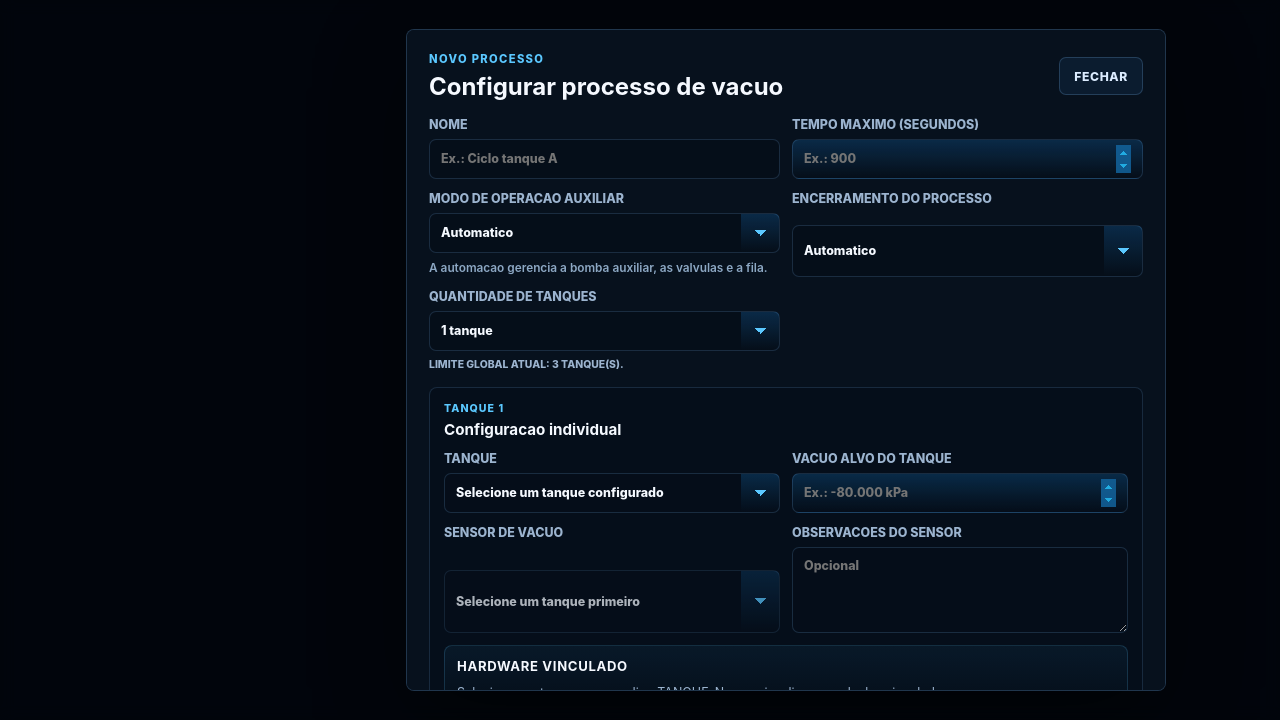
Test: NewProcessModal › oferece os três modos, limite dinâmico e prioridade apenas no automático/assistido
Select "2 tanques" in the dropdown labelled "Quantidade de tanques Limite global atual: 3 tanque(s).". click: (604,331)
box: [429, 311, 780, 351]
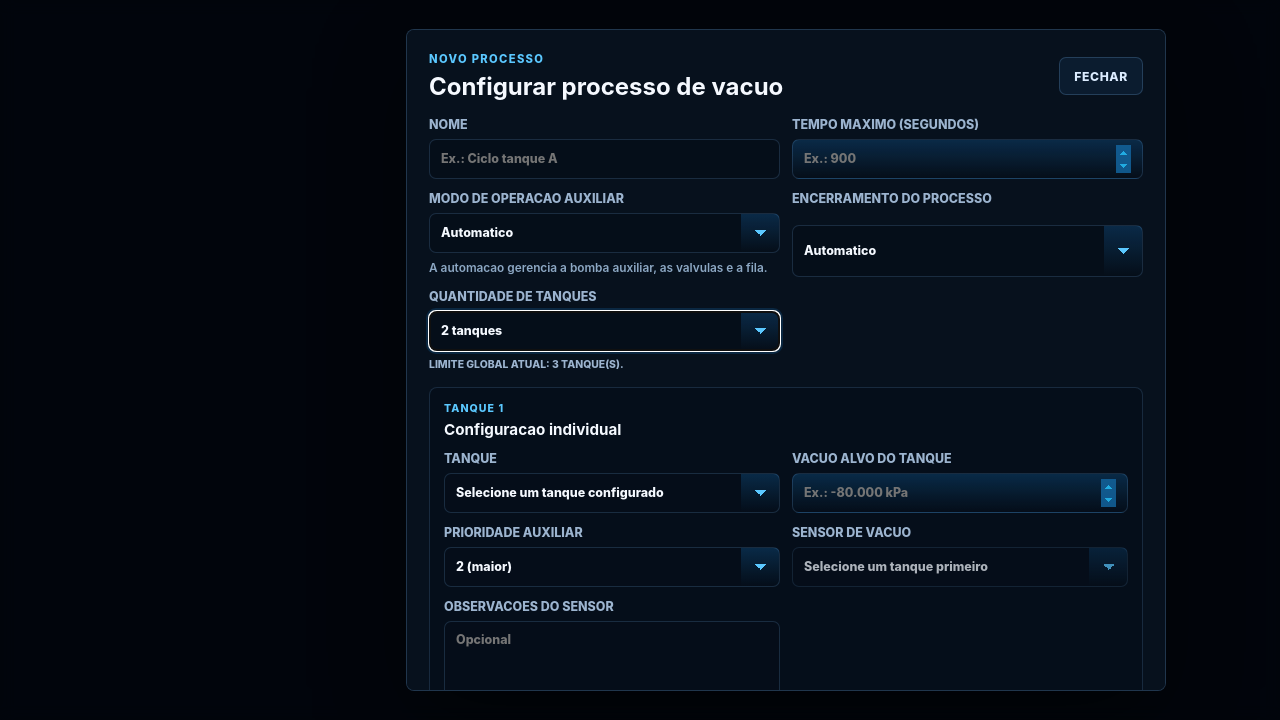
Expected: the number of dropdowns labelled "Prioridade auxiliar" is 2
Select "Manual" in the dropdown labelled "Modo de operacao auxiliar". click: (604,233)
box: [429, 213, 780, 253]
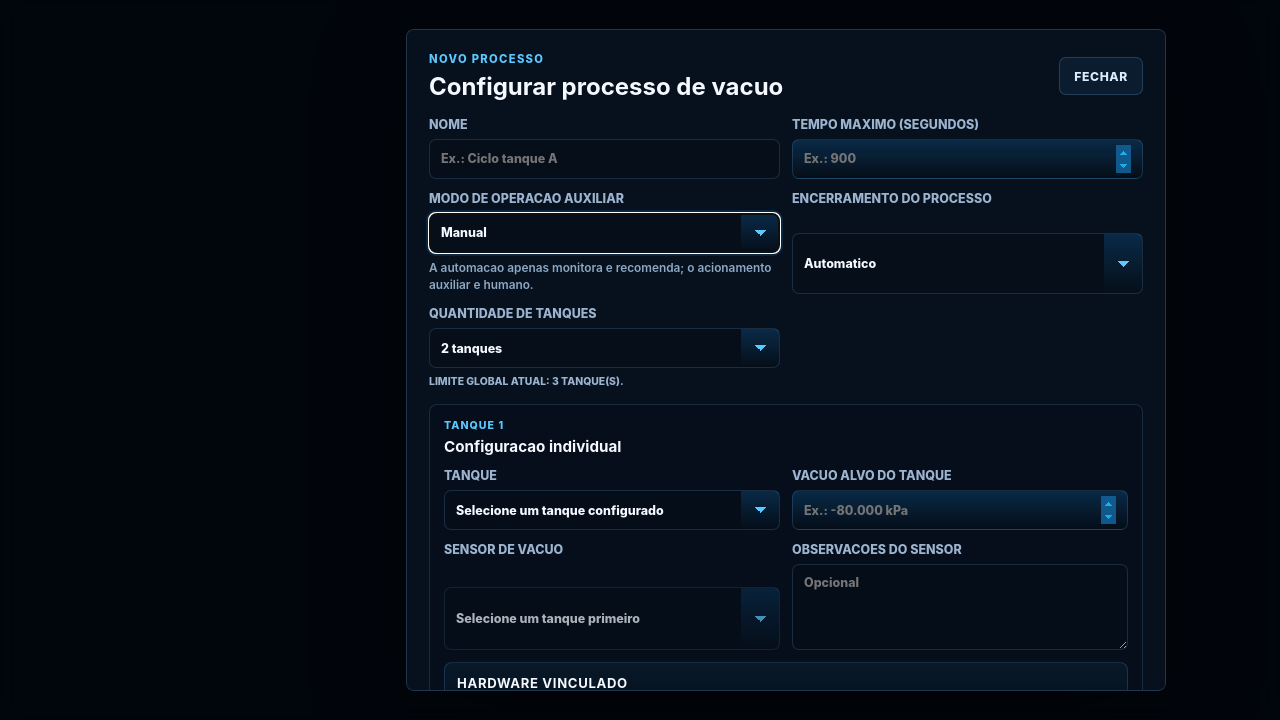
Expected: the label labelled "Prioridade auxiliar" is gone
Expected: the text "automacao apenas monitora e recomenda" is shown, [429, 261, 772, 292]
